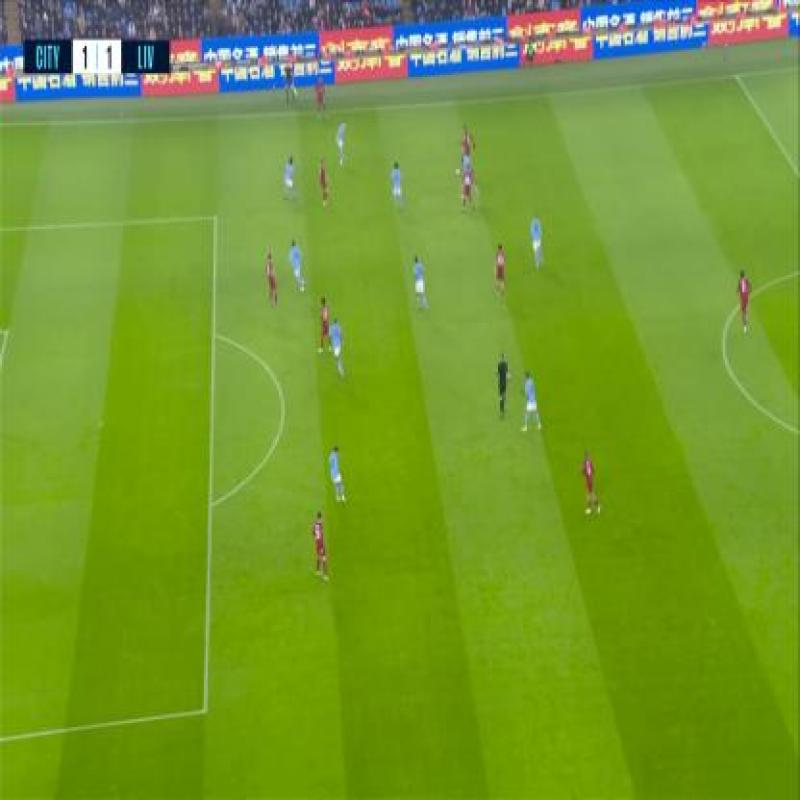10: (208, 325, 222, 344)
11: (206, 494, 218, 516)
12: (198, 698, 211, 721)
13: (731, 68, 742, 86)
7: (2, 322, 14, 340)
9: (210, 208, 224, 229)
c: (709, 344, 749, 396)
